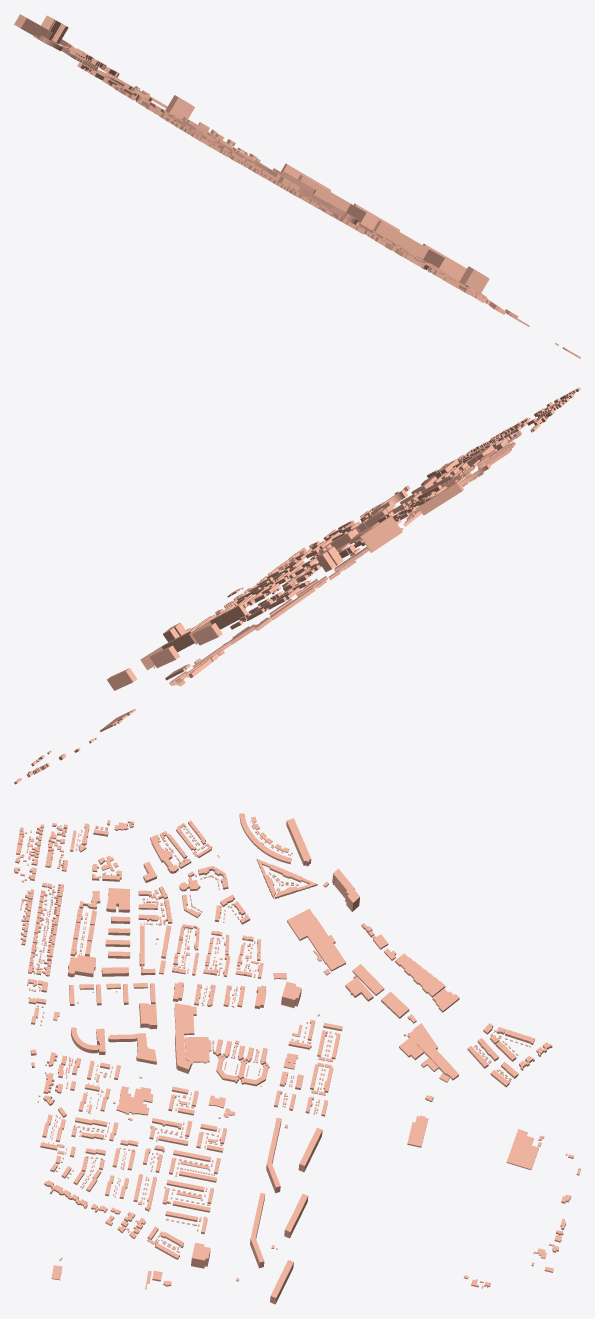
3 renders of one model, top to bottom at view 1: azimuth 30°, elevation 25°; view 2: azimuth 150°, elevation 25°; view 3: azimuth 270°, elevation 25°, orthographic. The views are drawn at different scales.
Bounding box in the file's own units: 974 × 766 × 1264.
